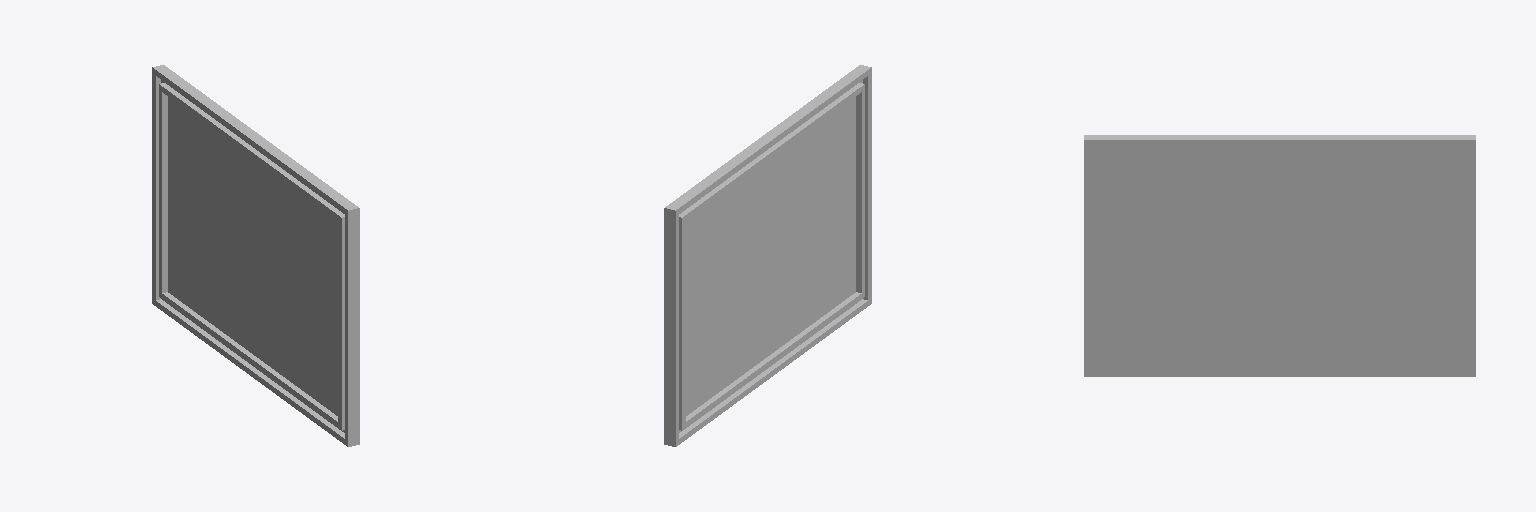
The model's file is painting final-3.obj.
The picture shows the model from 3 angles: view 1: azimuth 30°, elevation 25°; view 2: azimuth 150°, elevation 25°; view 3: azimuth 270°, elevation 25°; orthographic projection.
Parts seen in each view (by area): view 1: painting final-3; view 2: painting final-3; view 3: painting final-3.
Boxes of the visible parts, x1,y1,x2,y2 form: painting final-3: [152, 65, 359, 446]; painting final-3: [664, 65, 871, 446]; painting final-3: [1084, 135, 1475, 376].
Bounding box in the file's own units: 2 × 40 × 60.